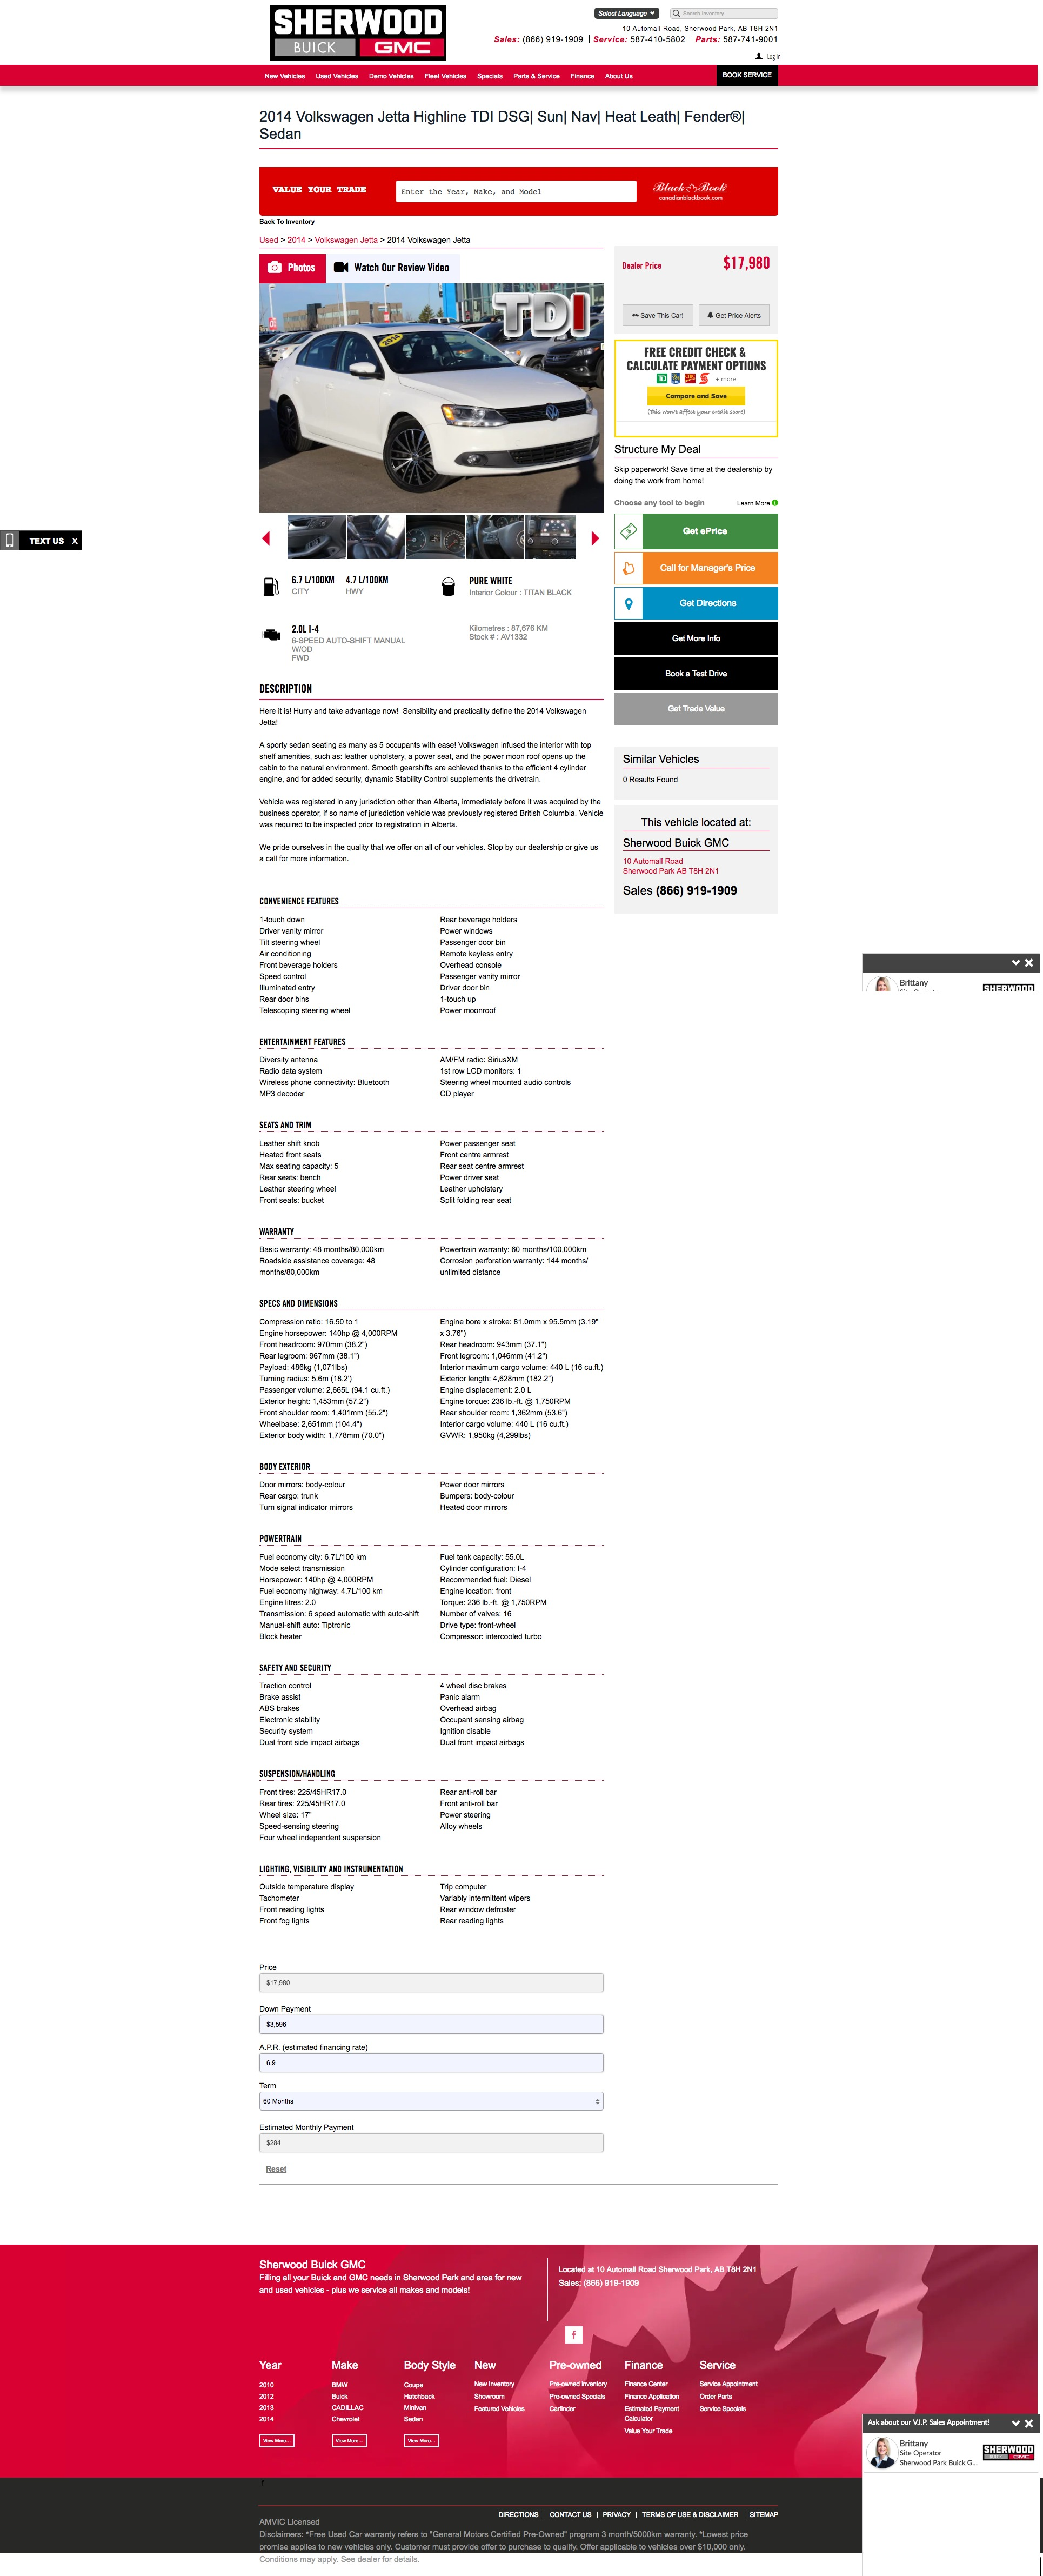car: (591, 531, 600, 547)
